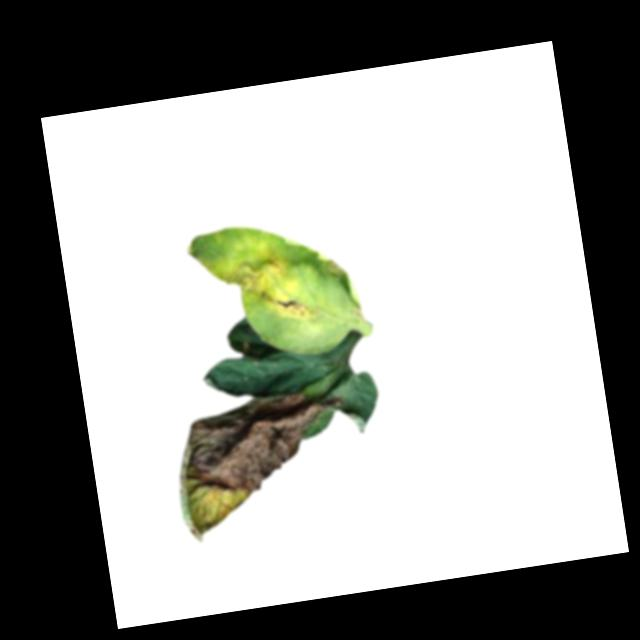Late_blight: (164, 381, 365, 546), (218, 247, 316, 330), (319, 253, 346, 282)
